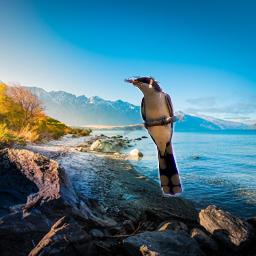Cuckoo: (124, 76, 184, 197)
